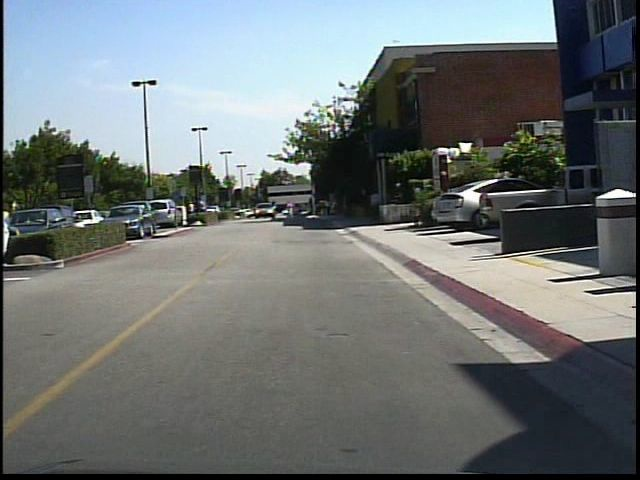person: (184, 193, 200, 224), (283, 196, 299, 223)
